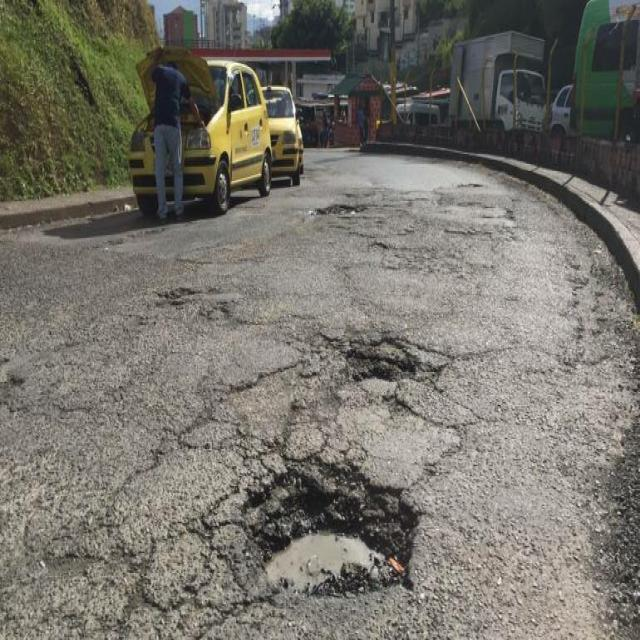Pothole: (225, 325, 472, 616), (303, 167, 440, 279)
